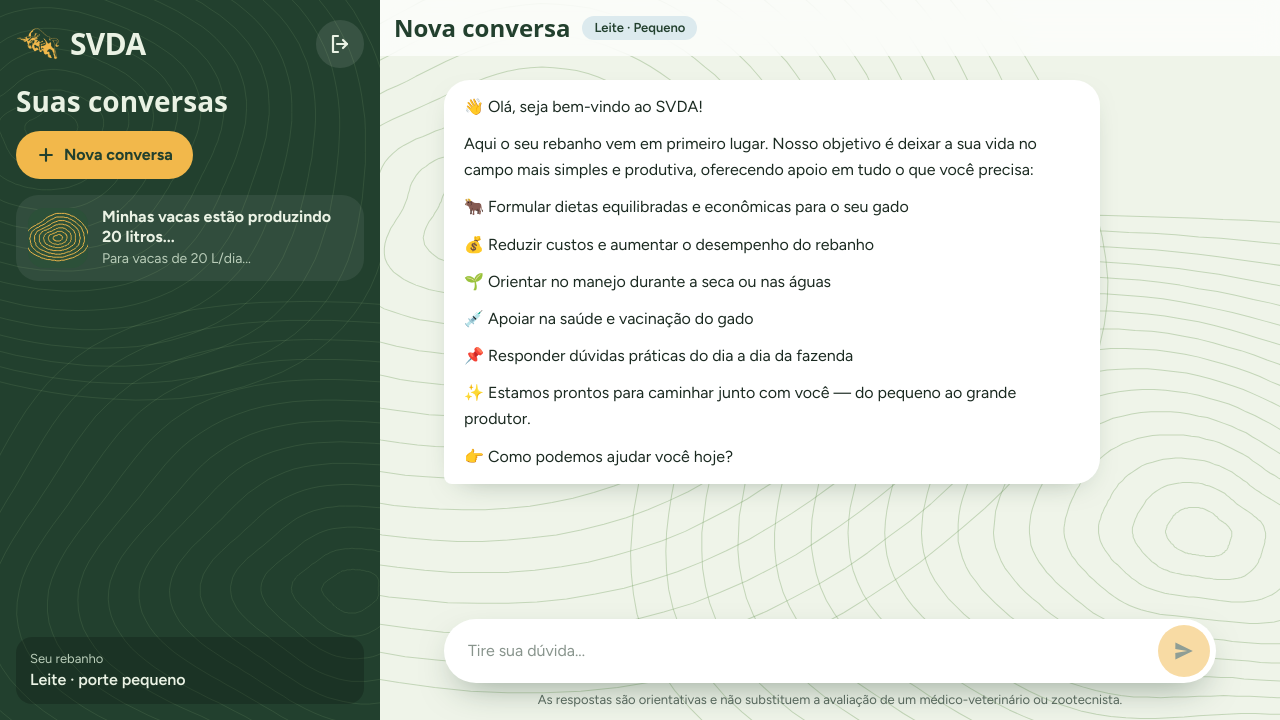
Test case: chatting › refreshes the conversation list after a reply
Type "Oi" into the field labelled "sua dúvida". click: (801, 651)
box: [452,627,1150,675]
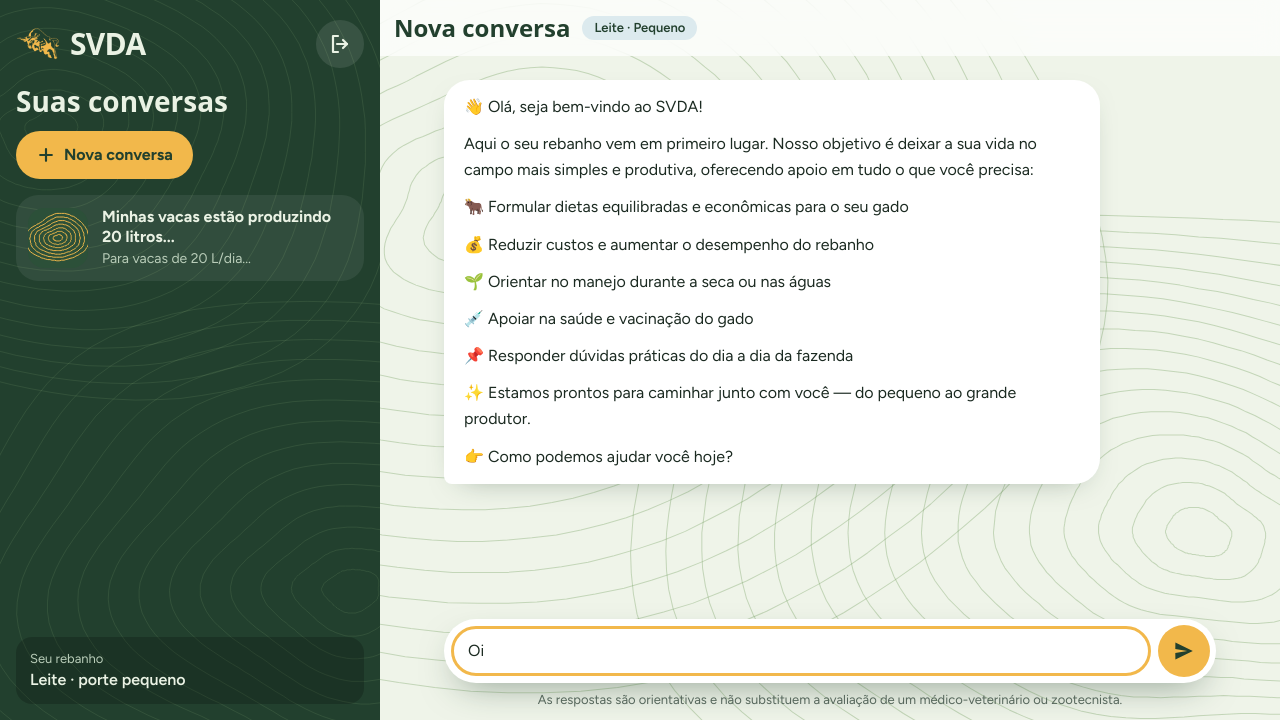
Click the button named "Enviar". click: (1184, 651)
box: [1158,625,1210,677]
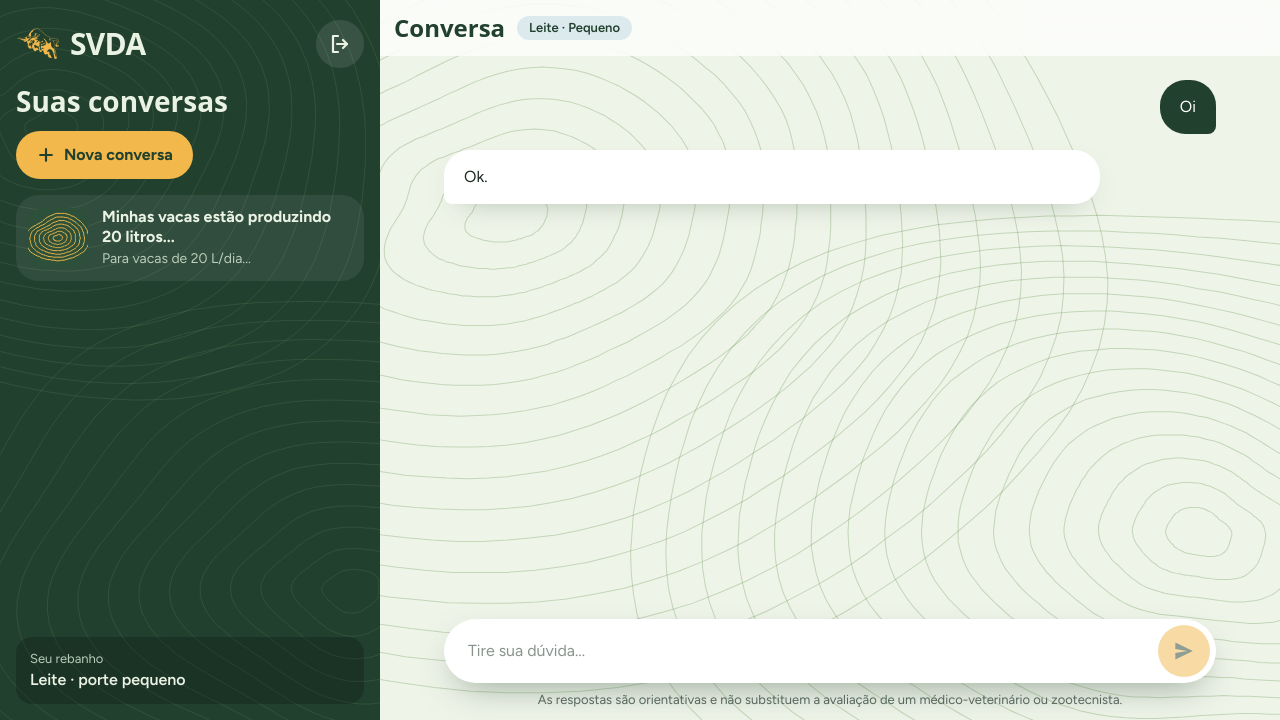
Now the text "Ok." is shown, box [464,167,488,186]
